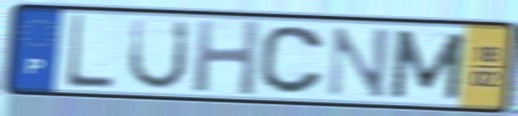C: (257, 23, 328, 97)
H: (190, 17, 263, 99)
L: (63, 12, 117, 92)
M: (386, 27, 470, 102)
N: (323, 25, 394, 101)
U: (124, 16, 193, 93)
